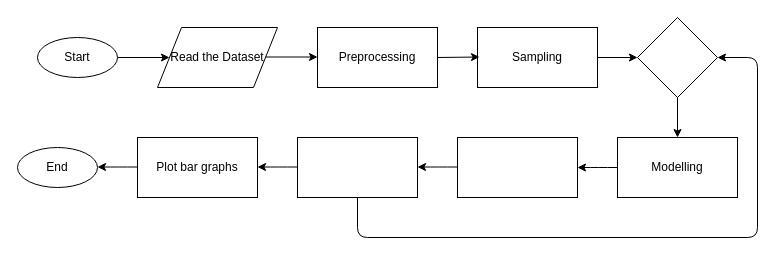
Some shapes in this 783 by 263 pixel diagram are drawn without their labels. The shapes that lost their labels are listed below. From the top down, each one's centre as x and y in pixels, then its label:
pixel 677 57: For all samples
pixel 357 167: Plot line graphs
pixel 517 167: Evaluation
